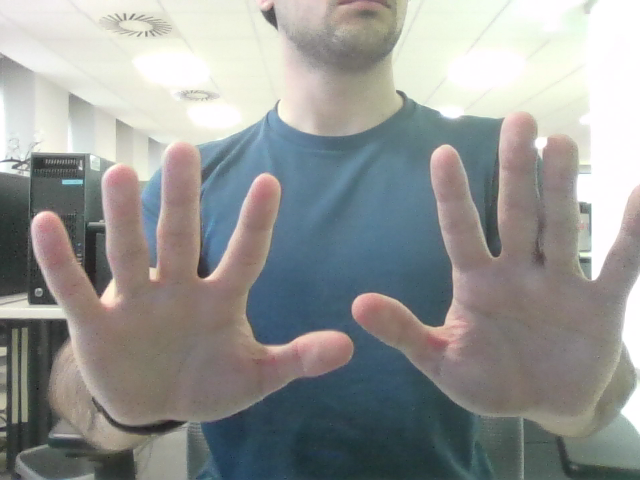Manos Arriba: (77, 141, 618, 386)
